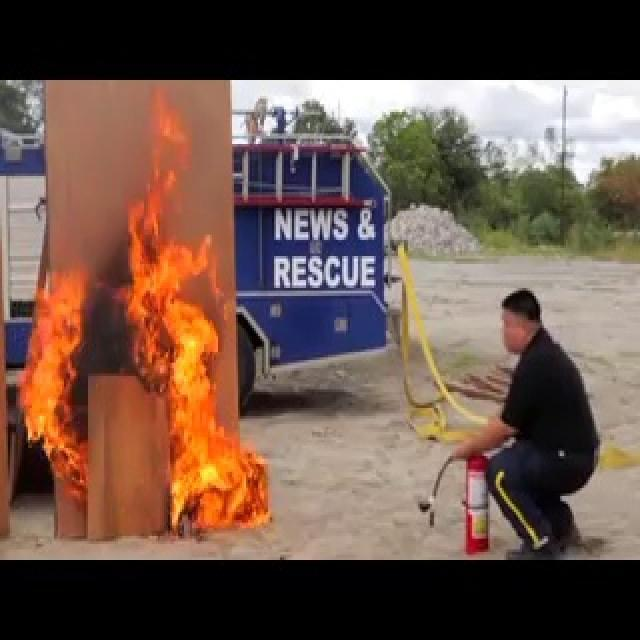Fire: (20, 124, 284, 532)
